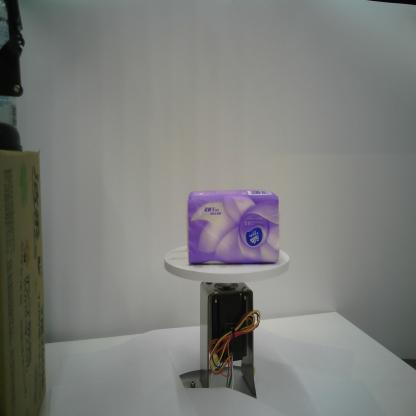Tissue: (184, 186, 281, 269)
